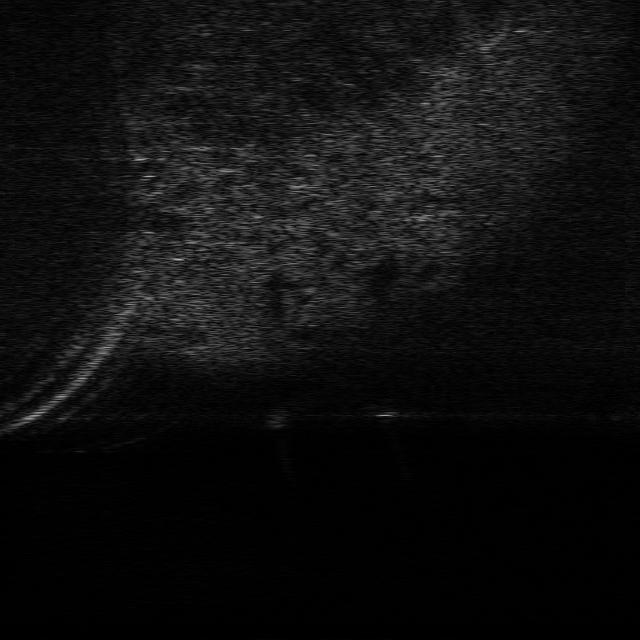cube: (368, 396, 404, 421)
cylinder: (265, 408, 290, 430)
